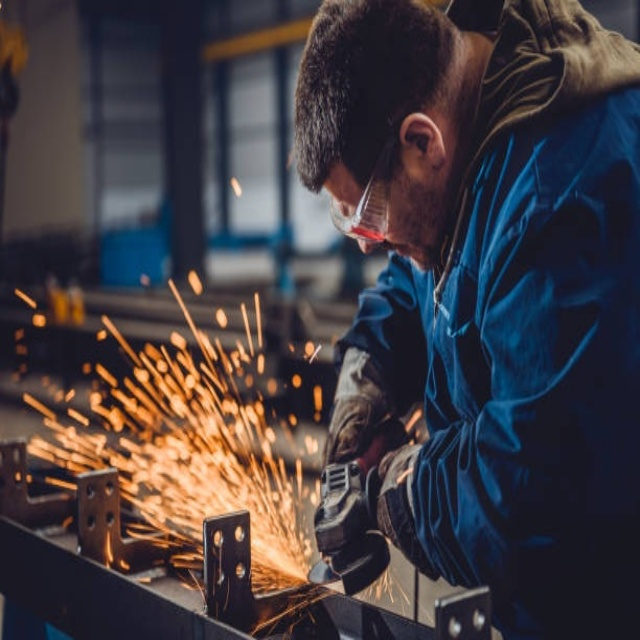Gafas: (328, 115, 405, 247)
Guantes: (370, 424, 437, 582), (323, 345, 398, 467)
Sin_mascara: (384, 201, 435, 268)
